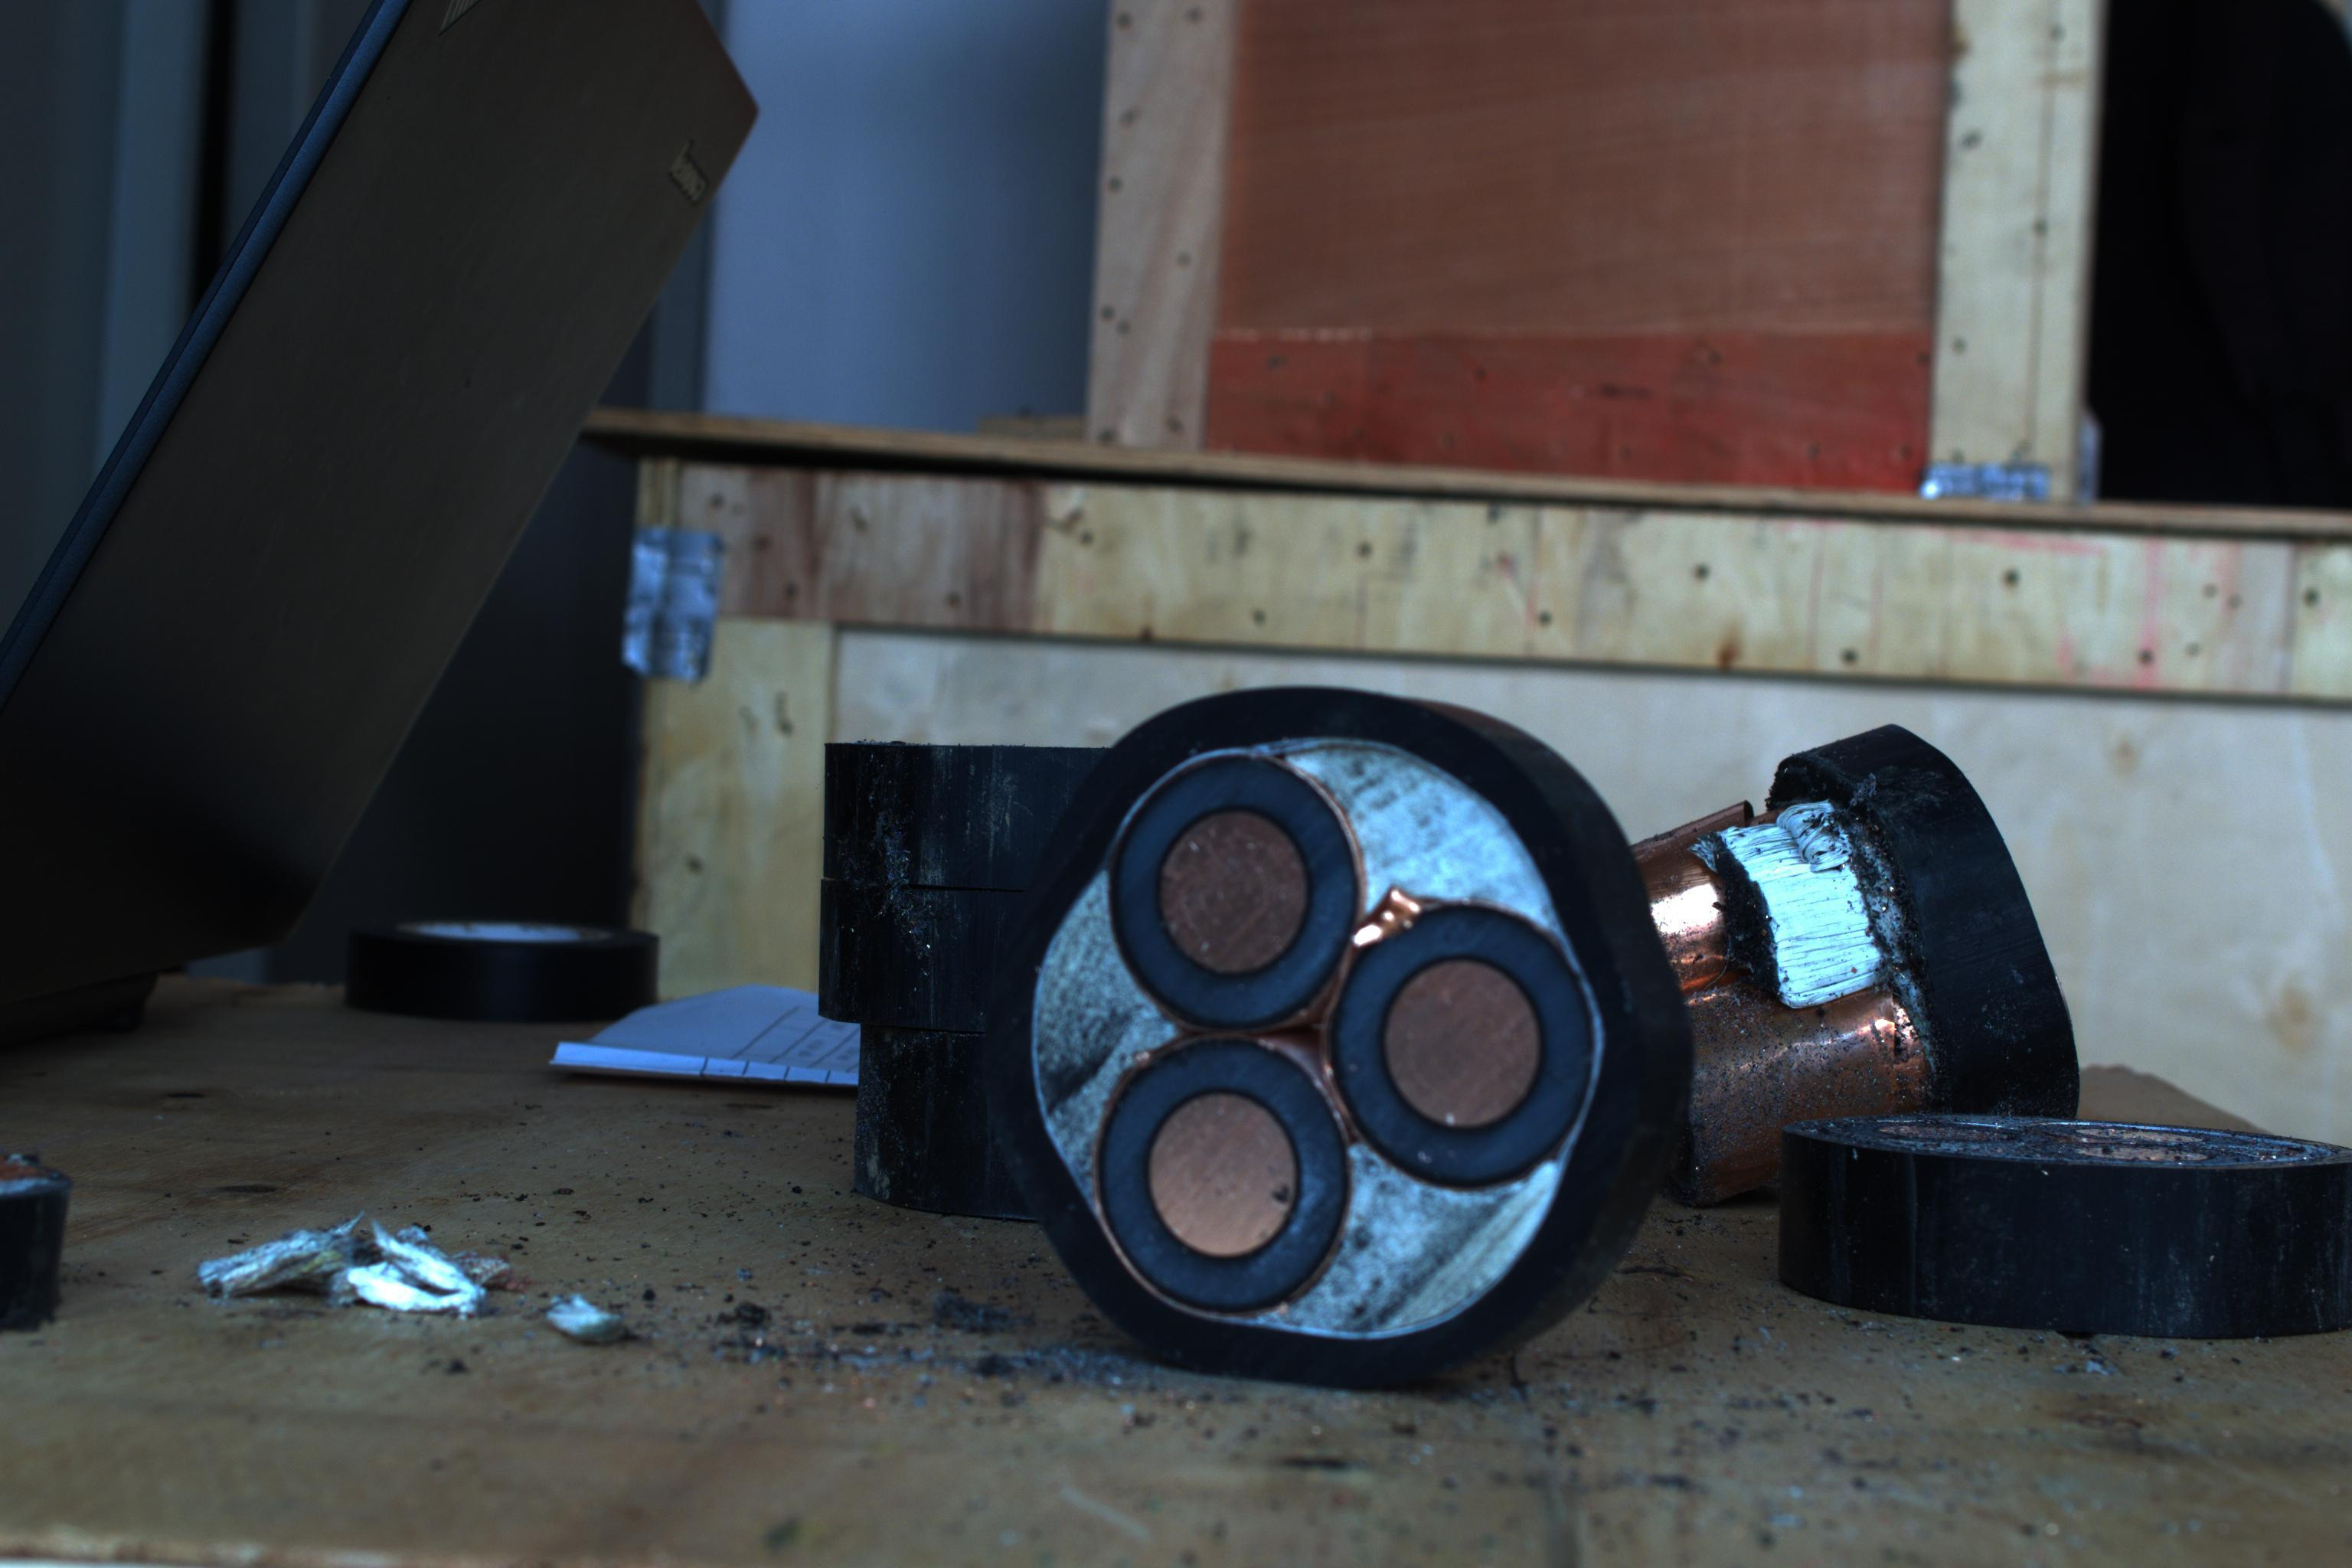ZA_YJV_8.7_10kV_3x240: (1041, 712, 1661, 1365)
